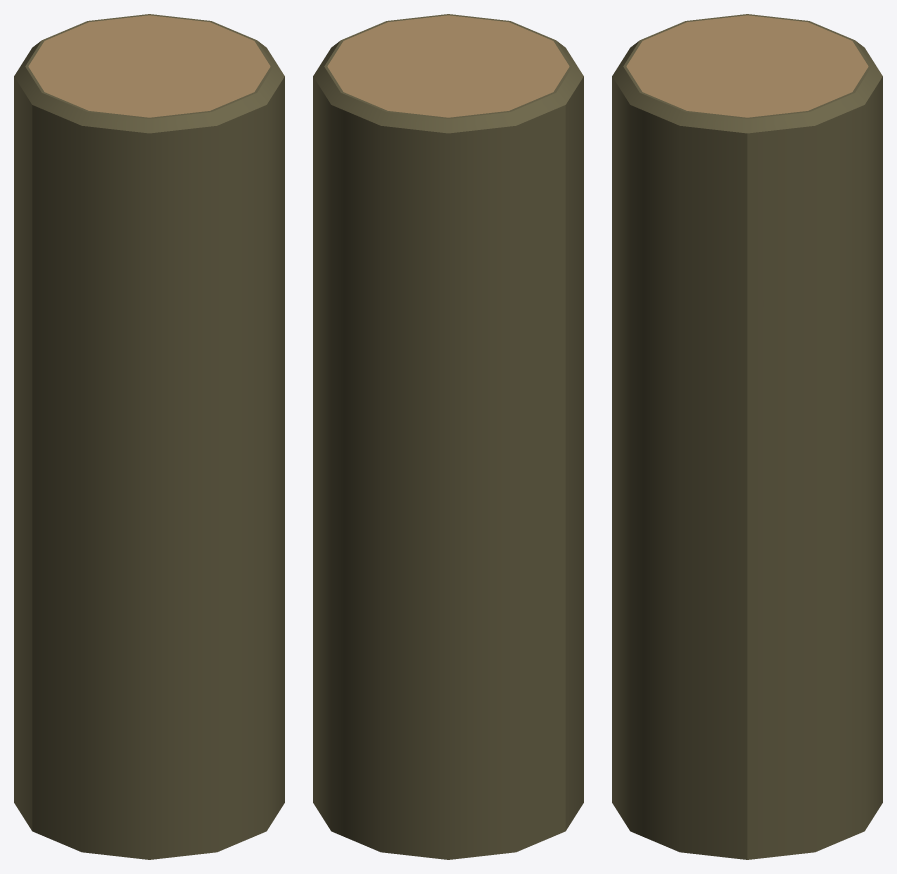
File: Pole_01.fbx
3 views of the same model, side by side, from view 1: azimuth 30°, elevation 25°; view 2: azimuth 150°, elevation 25°; view 3: azimuth 270°, elevation 25° (orthographic).
Parts seen in each view (by area): view 1: Cylinder; view 2: Cylinder; view 3: Cylinder.
Part boxes in pixels (x1,y1,x2,y2): Cylinder: (14,14,284,859); Cylinder: (313,14,583,859); Cylinder: (612,14,882,859).
Size of the model in its own units: 200 by 600 by 200.
